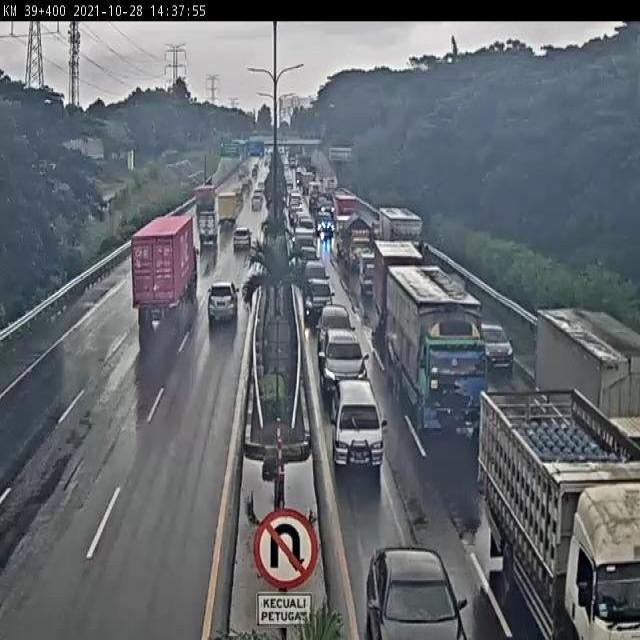big truck: (474, 386, 640, 640), (385, 262, 492, 449), (132, 211, 197, 340)
car: (356, 534, 477, 640), (332, 372, 390, 472), (324, 327, 372, 392), (314, 303, 367, 348), (477, 317, 514, 376), (209, 273, 244, 327), (305, 280, 346, 319), (234, 224, 260, 257)
small truck: (212, 190, 243, 230), (193, 182, 227, 218), (195, 207, 221, 253)
